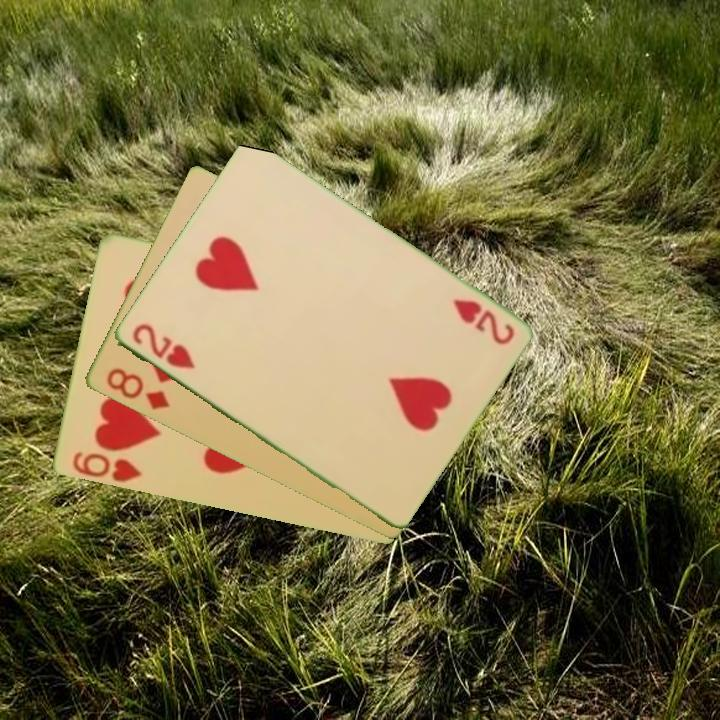2h: (128, 319, 198, 373), (449, 295, 517, 348)
6h: (68, 448, 144, 486)
8d: (102, 364, 172, 414)
